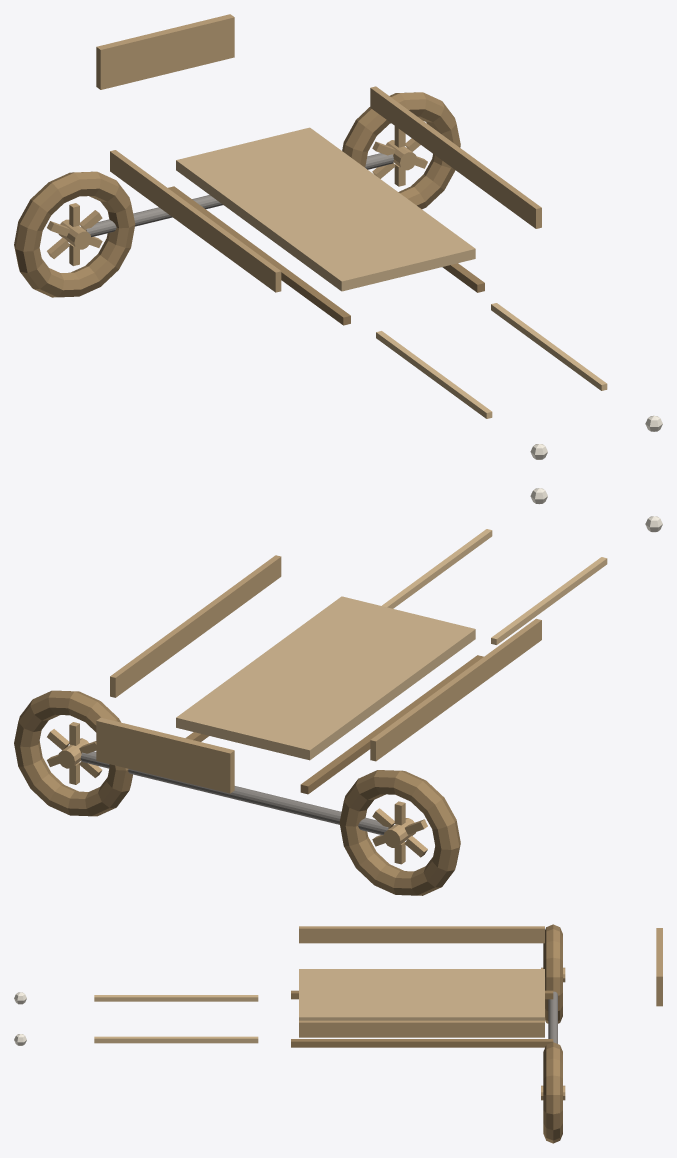
Rendered from Flatbed_Wagon.glb.
3 renders of one model, top to bottom at view 1: azimuth 30°, elevation 25°; view 2: azimuth 150°, elevation 25°; view 3: azimuth 270°, elevation 25°, orthographic. The views are drawn at different scales.
Parts seen in each view (by area): view 1: Flatbed_Wagon; view 2: Flatbed_Wagon; view 3: Flatbed_Wagon.
Boxes of the visible parts, bbox=[...] form: Flatbed_Wagon: bbox=[14, 14, 662, 459]; Flatbed_Wagon: bbox=[14, 488, 662, 895]; Flatbed_Wagon: bbox=[14, 924, 662, 1143].
Bounding box in the file's own units: 2.32 × 0.86 × 3.96.
